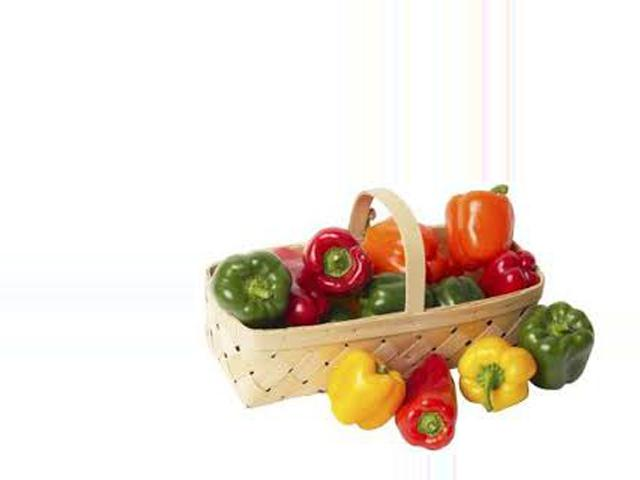bell_pepper: (212, 249, 298, 320)
